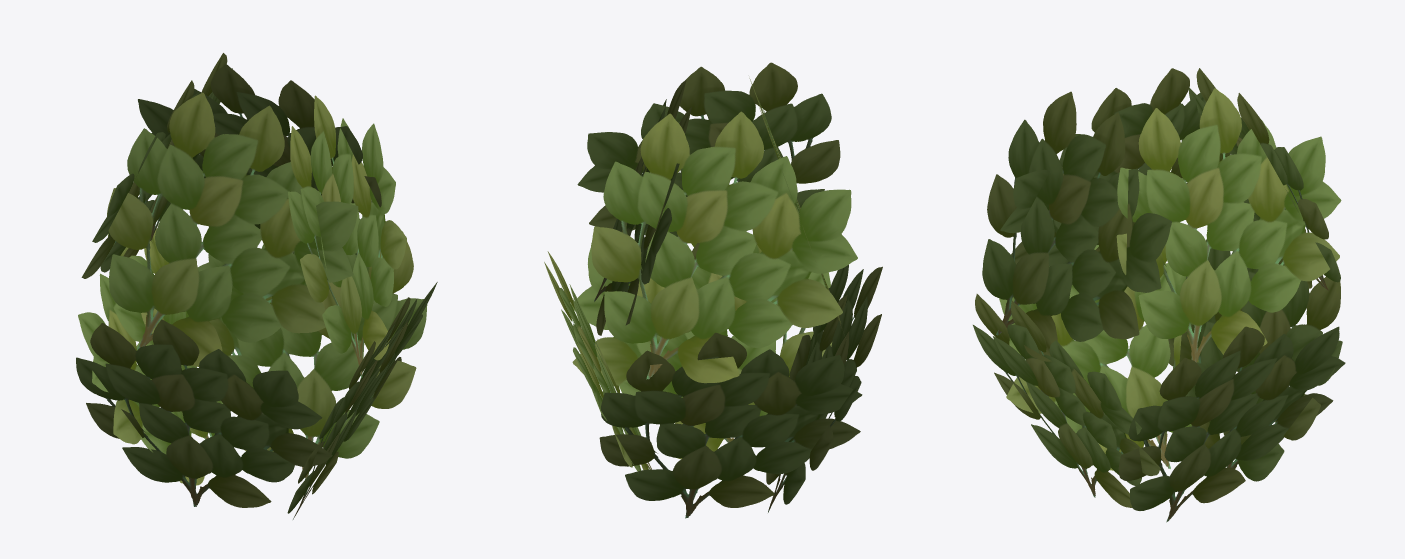
Rendered from bush1.fbx.
3 views of the same model, side by side, from view 1: azimuth 30°, elevation 25°; view 2: azimuth 150°, elevation 25°; view 3: azimuth 270°, elevation 25° (orthographic).
Parts seen in each view (by area): view 1: dark_bush.005; view 2: dark_bush.005; view 3: dark_bush.005.
Boxes of the visible parts, box(x1,y1,x2,y2) form: dark_bush.005: box(76, 53, 437, 519); dark_bush.005: box(544, 62, 882, 518); dark_bush.005: box(973, 68, 1345, 522).
Bounding box in the file's own units: 1017 × 1267 × 1020.
